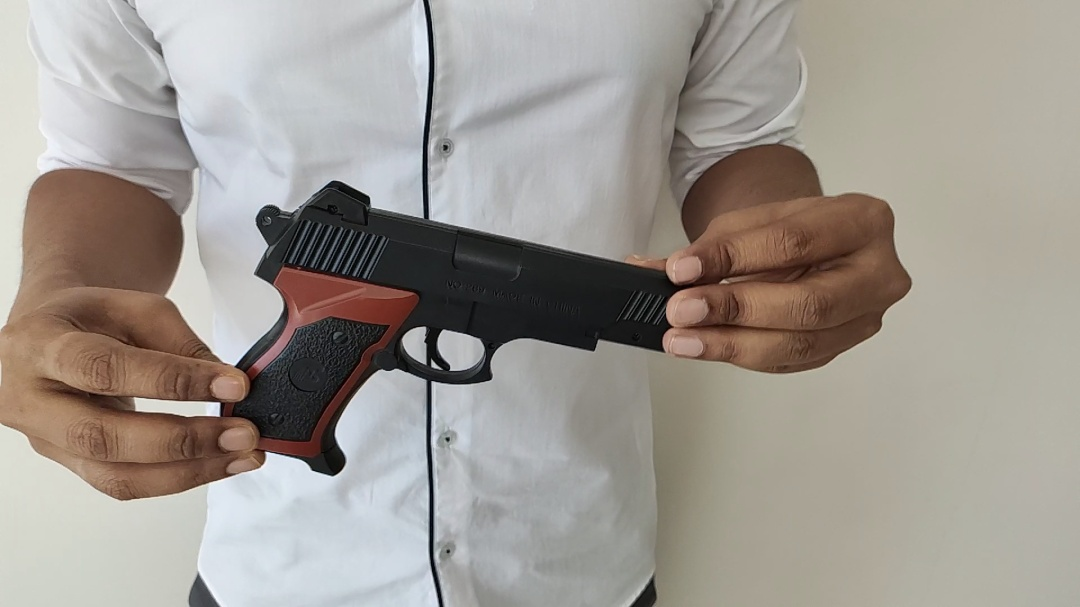gun: (231, 178, 668, 477)
